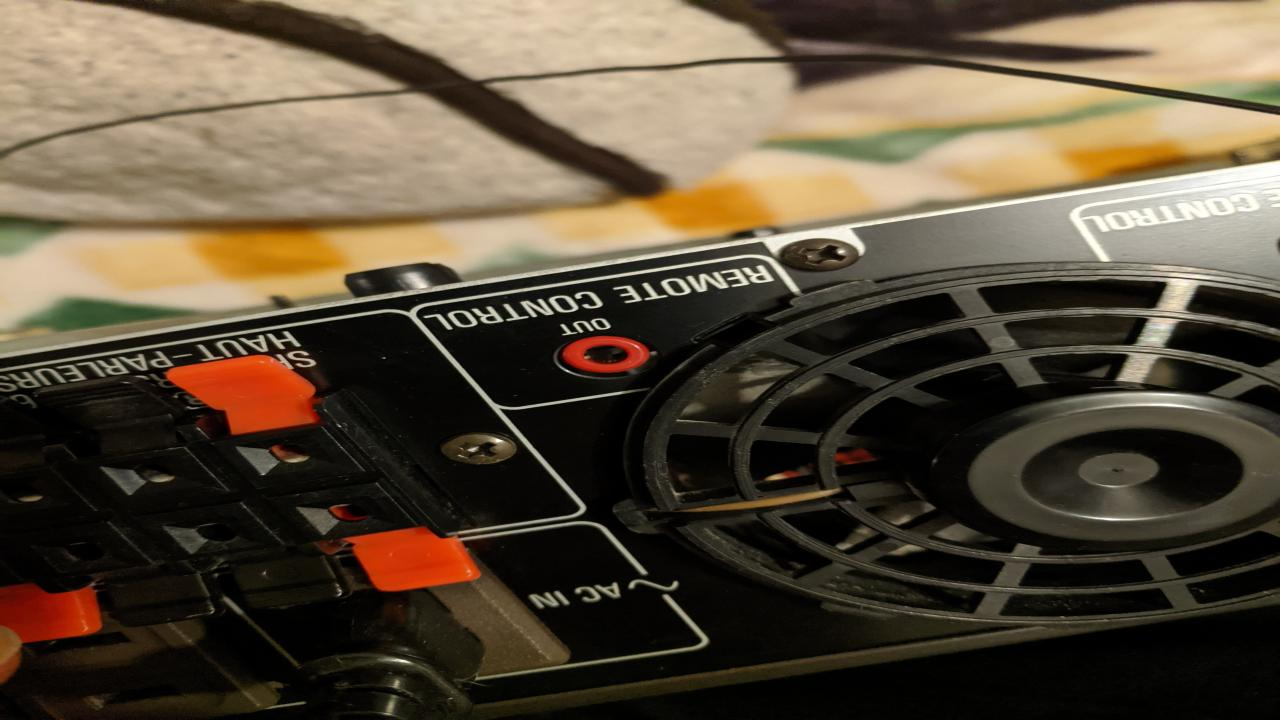CRS: (439, 431, 521, 466), (779, 239, 864, 270)
